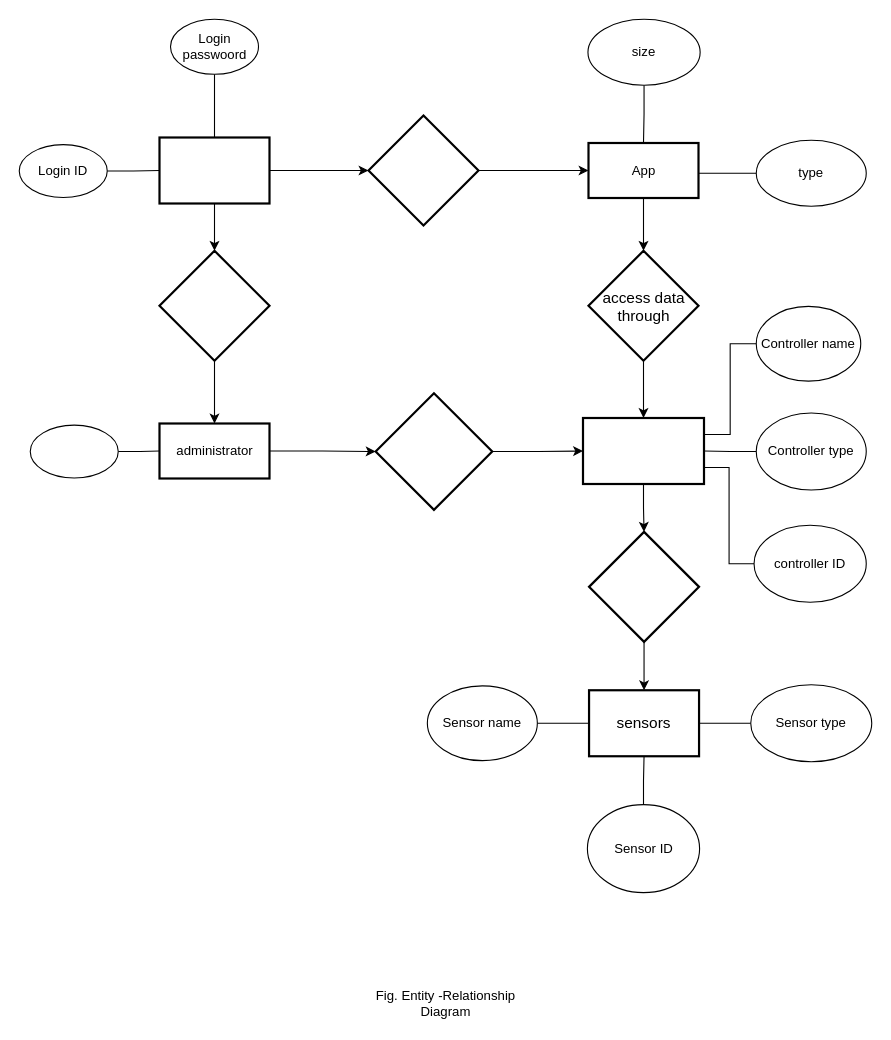
This 891x1040 diagram has some shape labels left out. Each missing label, with the centre of its shape:
"Contact No." belongs at point 73,451.
"controller" belongs at point 643,450.
"get data through" belongs at point 643,586.
"gives complaint to" belongs at point 214,305.
"maintenance of System" belongs at point 433,451.
"owner" belongs at point 214,170.
"views data through" belongs at point 423,170.
